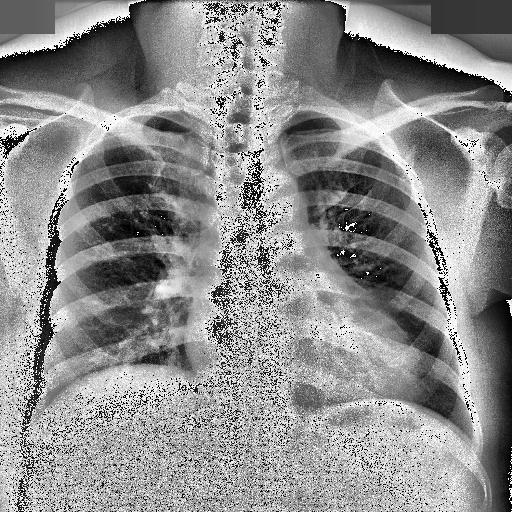3- Cardiomegaly: (182, 293, 418, 399), (184, 309, 424, 411), (183, 322, 420, 410)
